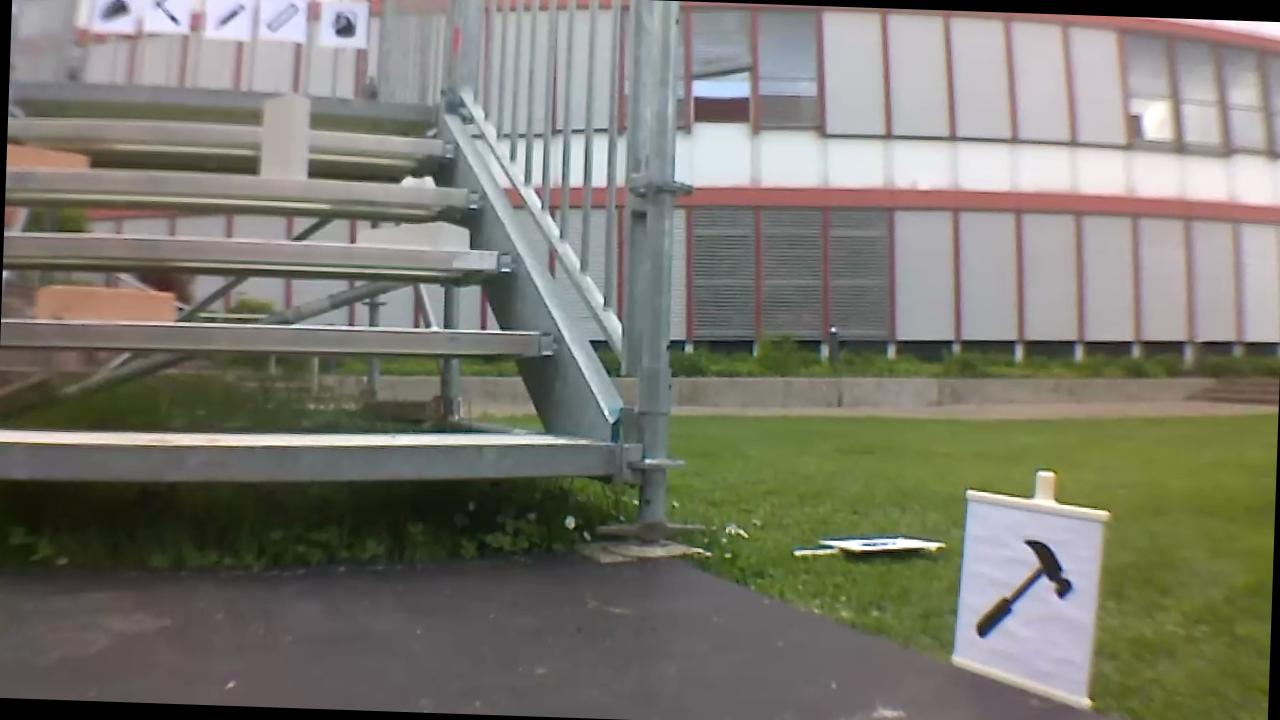brick: (36, 283, 174, 322), (262, 93, 308, 180), (356, 218, 468, 250), (8, 143, 86, 171)
bucket: (326, 5, 358, 41)
hammer: (968, 529, 1084, 656)
